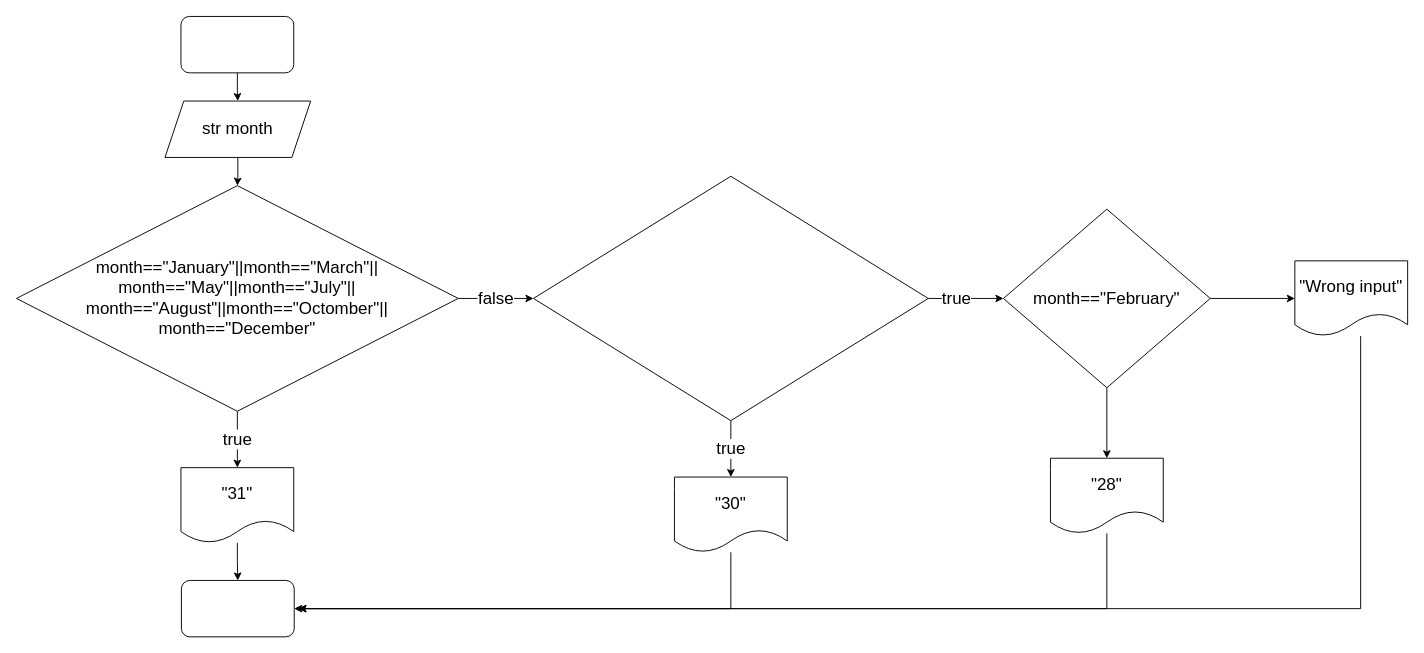
Image size: 1424x653. Some labels were removed from this diagram. Each missing label, with the box of its shape:
end: (180, 580, 294, 637)
month=="April"||month=="June"|| month=="September"||month=="November": (533, 175, 928, 421)
start: (180, 16, 294, 73)
